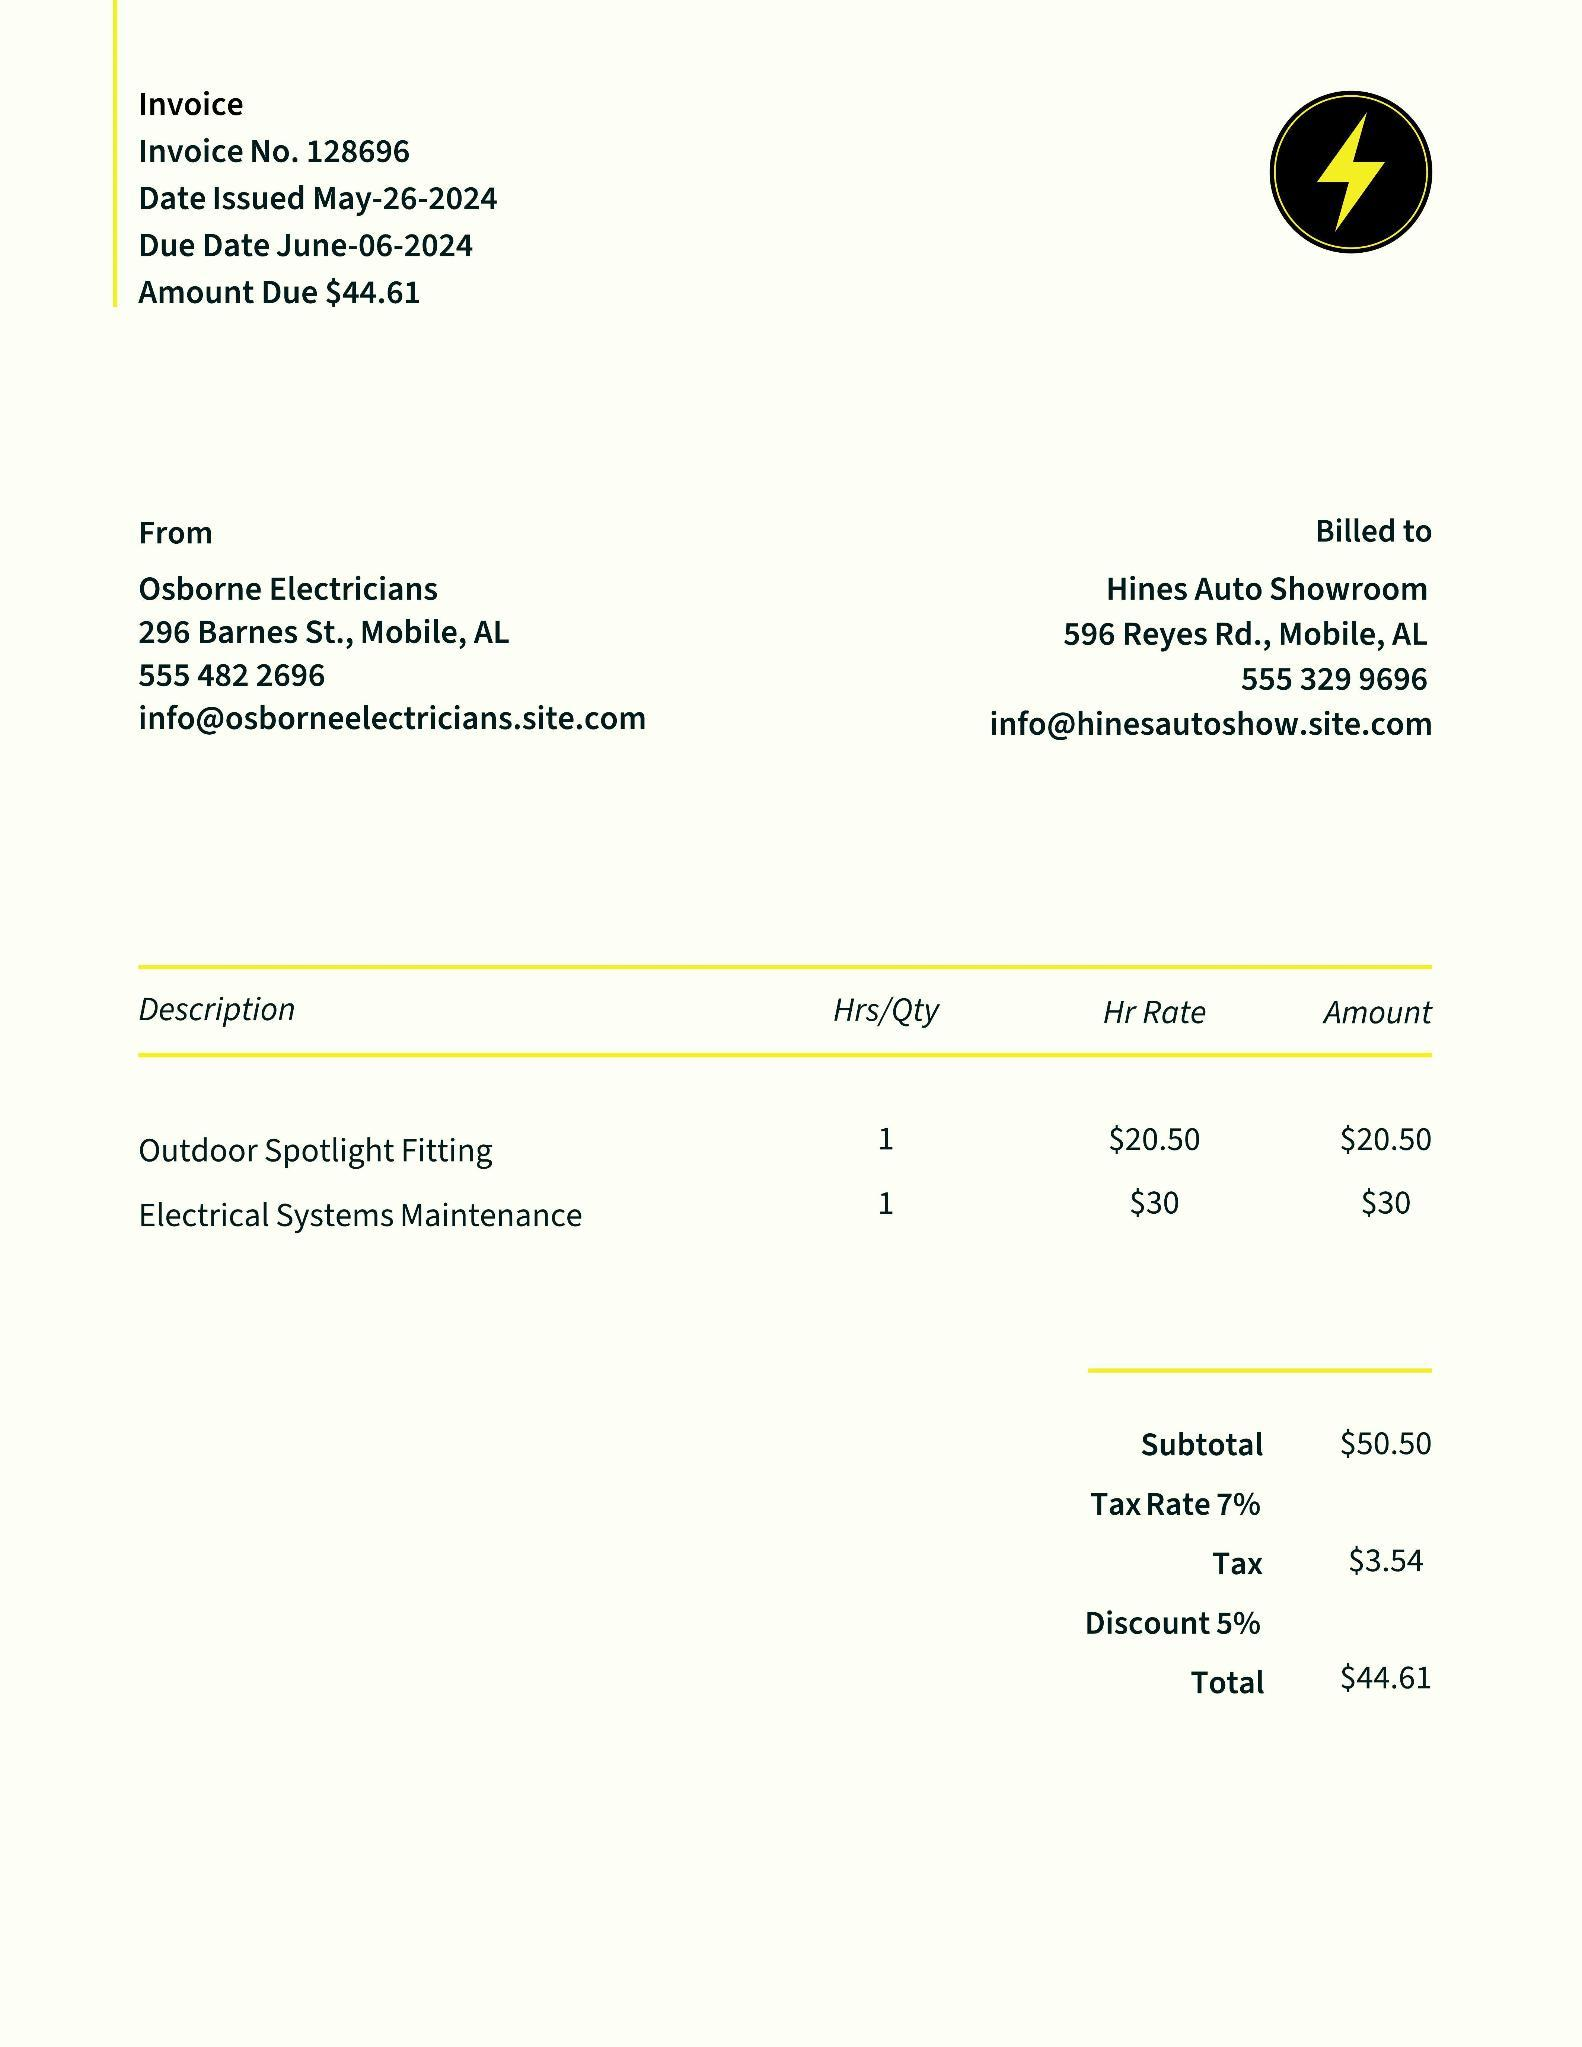ROI: (113, 959, 1461, 1293), (131, 507, 655, 753), (1069, 1421, 1496, 1715), (987, 487, 1436, 749), (136, 91, 518, 329)
